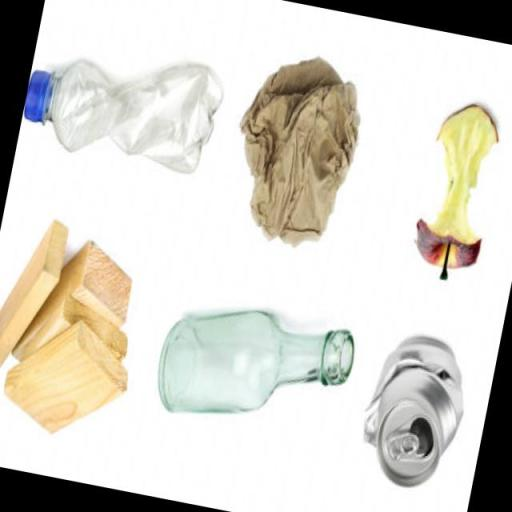bottle: (25, 60, 222, 172)
